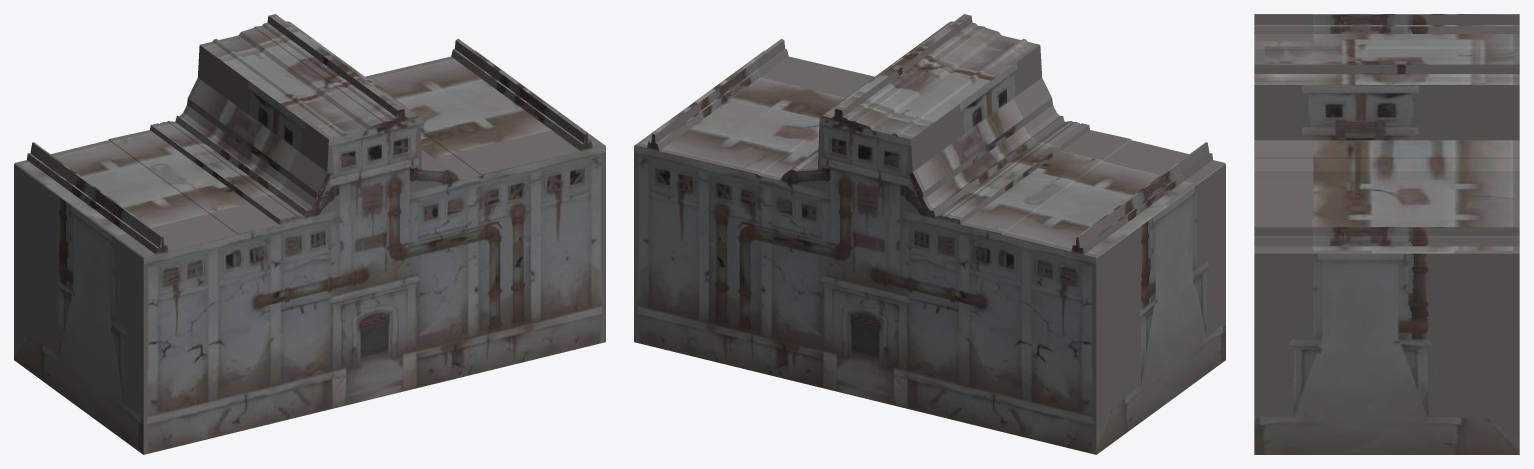
File: bg_city_building_5_lod0.glb
3 renders of one model, left to right at view 1: azimuth 30°, elevation 25°; view 2: azimuth 150°, elevation 25°; view 3: azimuth 270°, elevation 25°, orthographic. The views are drawn at different scales.
Visible parts, largest first — view 1: body; view 2: body; view 3: body.
Part boxes in pixels (x1,y1,x2,y2): body: (14,14,605,454); body: (634,14,1225,454); body: (1254,14,1519,454).
Bounding box in the file's own units: 9 × 5.26 × 4.36.
1 material, 1 textured.
